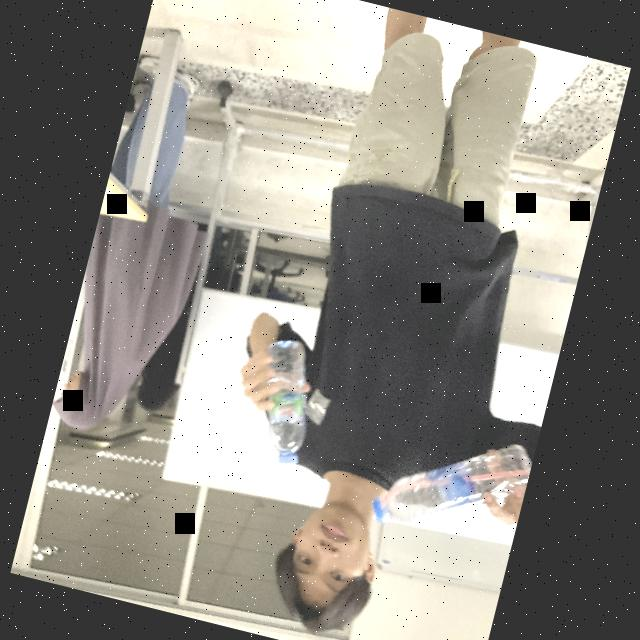plastic_bottle: (367, 416, 533, 556), (235, 332, 326, 470)
plastic_bottle_cap: (366, 495, 392, 525), (277, 449, 298, 468)
